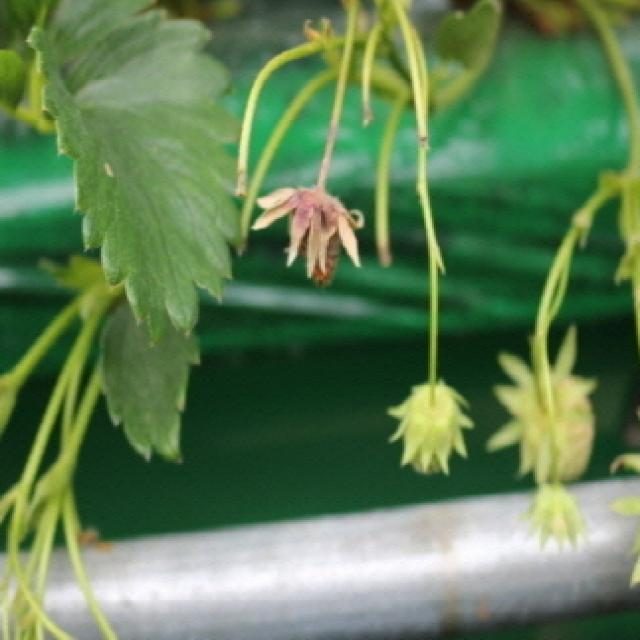Gray Mold: (249, 177, 367, 289)
